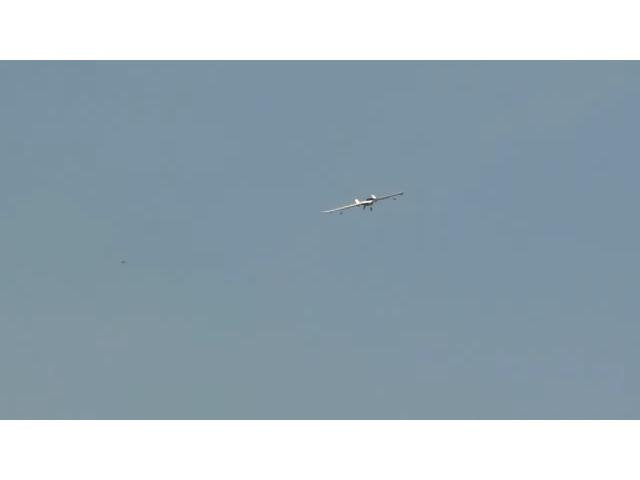Anti-Drone: (322, 192, 402, 214)
